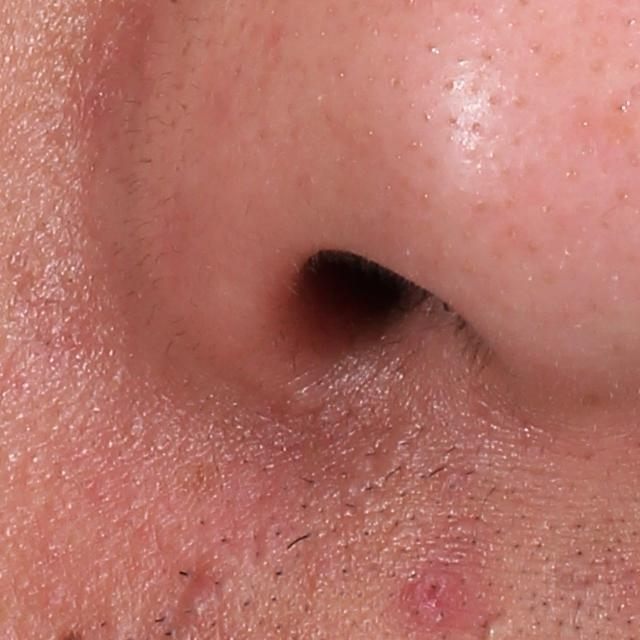papule: (397, 550, 473, 623), (178, 579, 218, 634)
